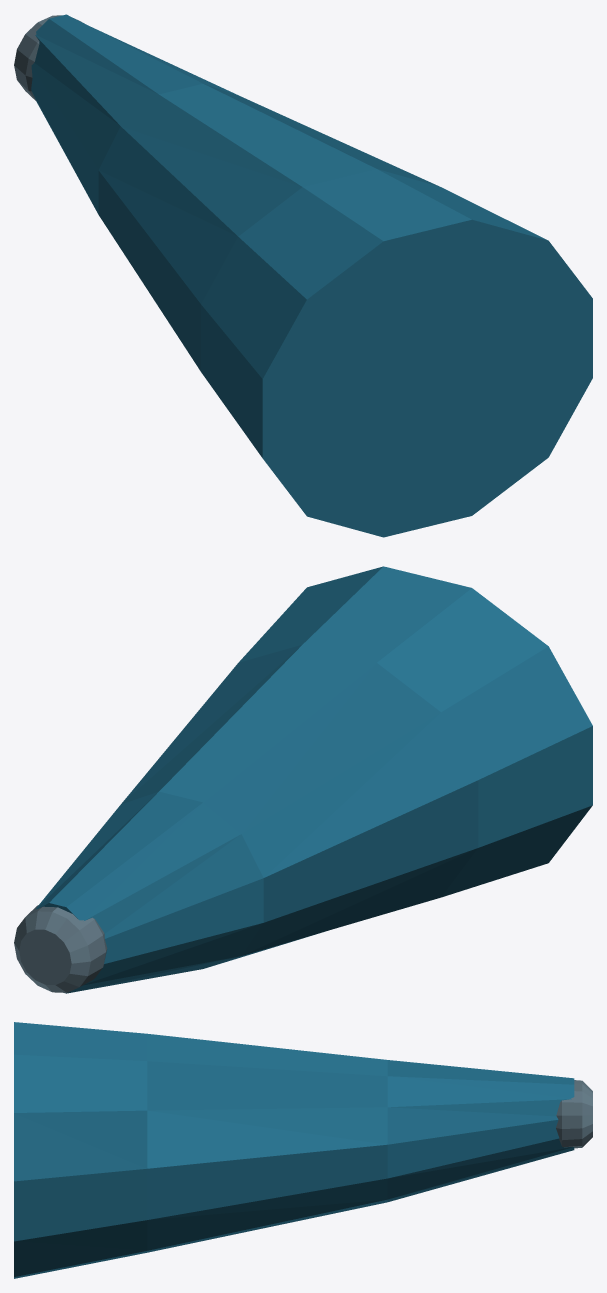
File: EA_TaperedTail.fbx
The picture shows the model from 3 angles, top to bottom: view 1: azimuth 30°, elevation 25°; view 2: azimuth 150°, elevation 25°; view 3: azimuth 270°, elevation 25°; orthographic projection. The views are drawn at different scales.
Visible parts, largest first — view 1: EA_TaperedTail; view 2: EA_TaperedTail; view 3: EA_TaperedTail.
Part boxes in pixels (x1,y1,x2,y2): EA_TaperedTail: (14,14,592,537); EA_TaperedTail: (14,566,592,993); EA_TaperedTail: (14,1022,592,1278).
Bounding box in the file's own units: 0.5409 × 0.4636 × 1.09.
